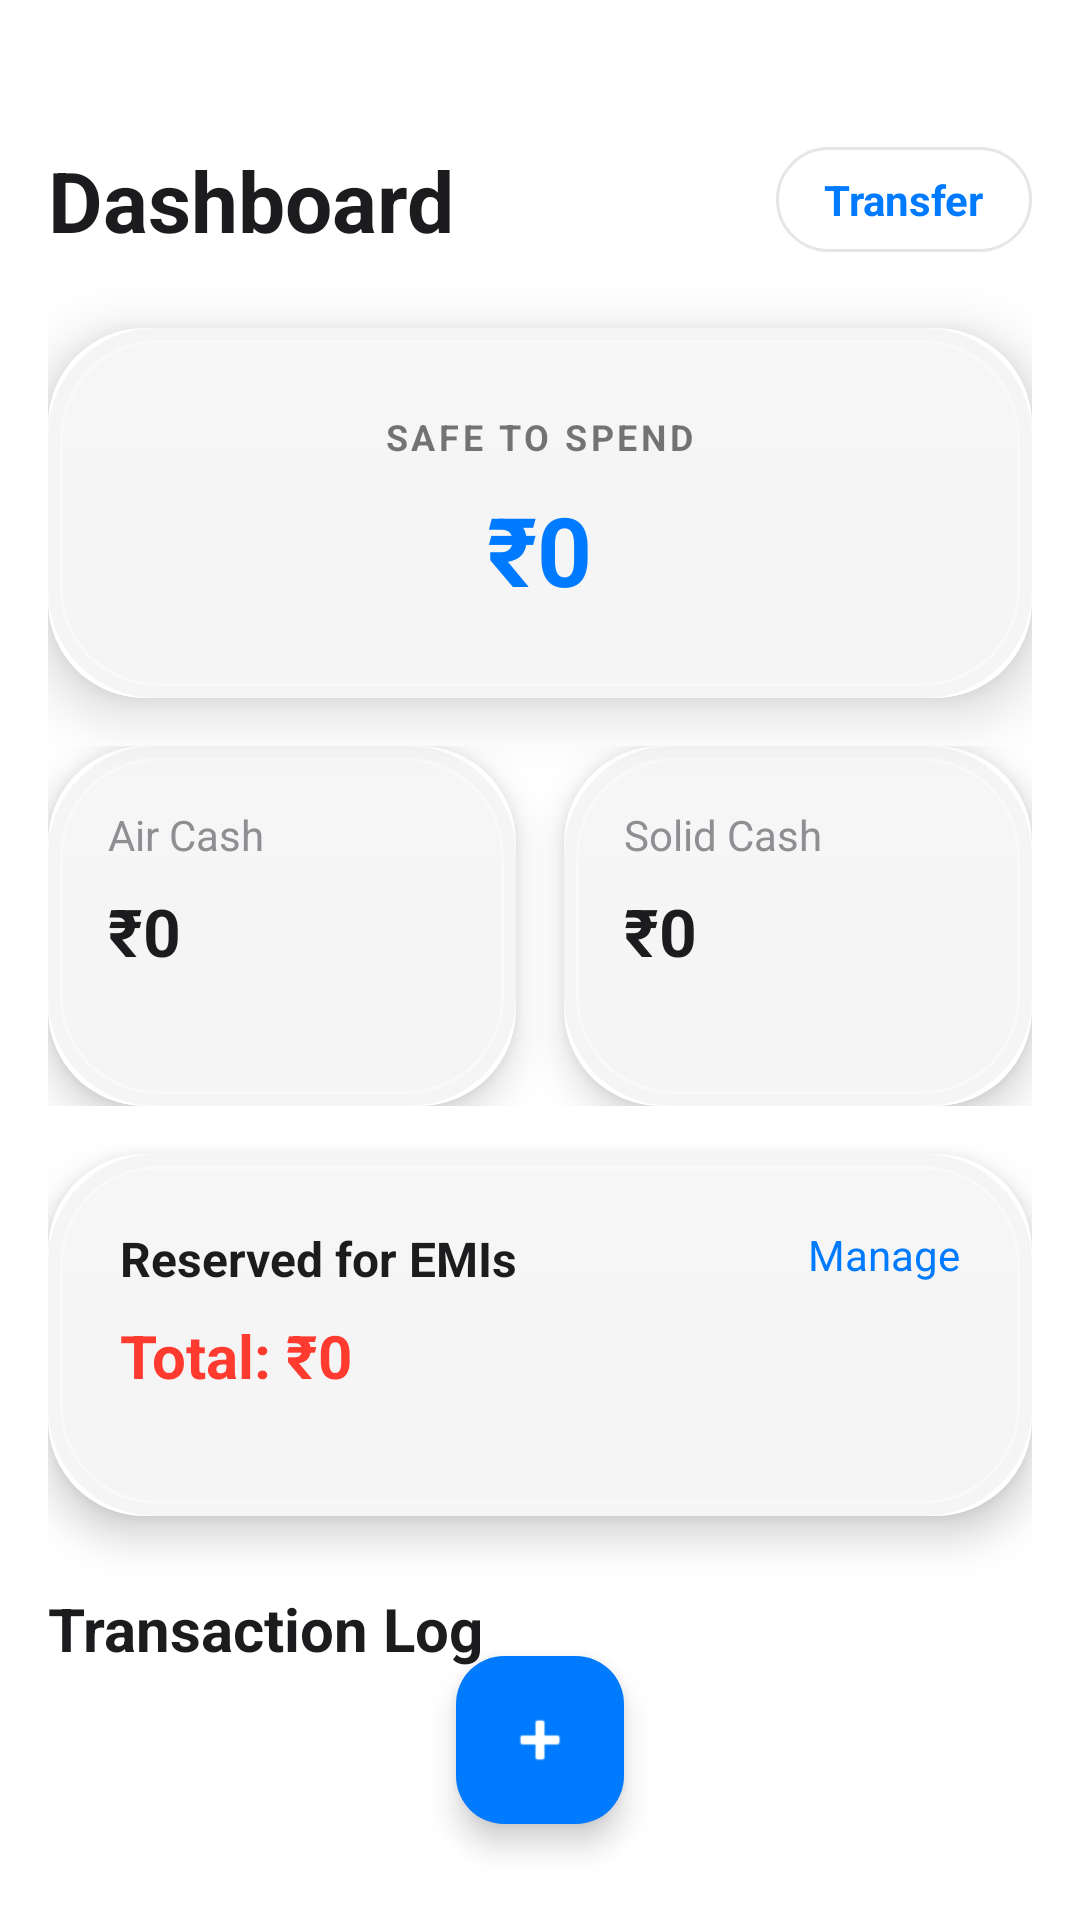

Point at icon controls on the screen. Image size 1080px x 1920px, points as point (x, y).
add: point (540, 1740)
